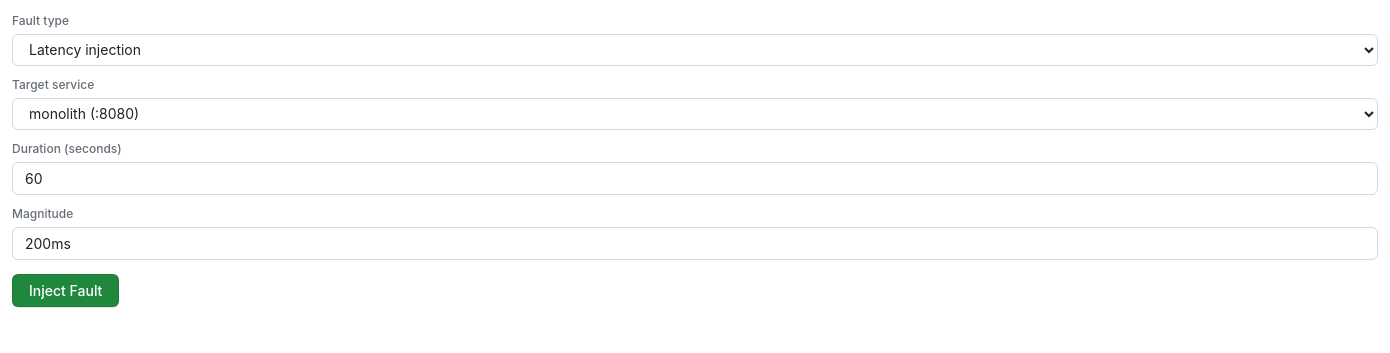
Scenario: theme and accessibility fidelity › associates fault form labels and validation errors with controls
Clear the field labelled "Magnitude" at (695, 243), box [12,226,1378,260]
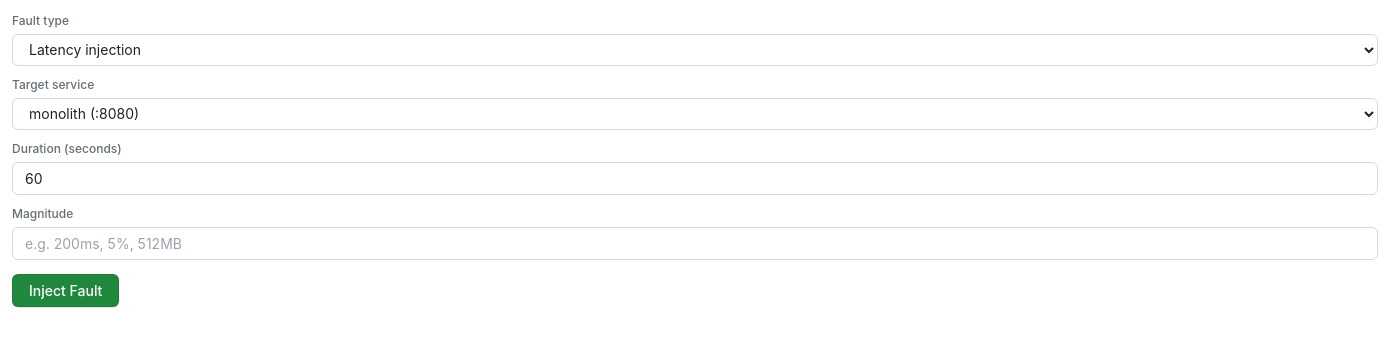
Click the button "Inject Fault" at (66, 290), box [12,274,119,306]
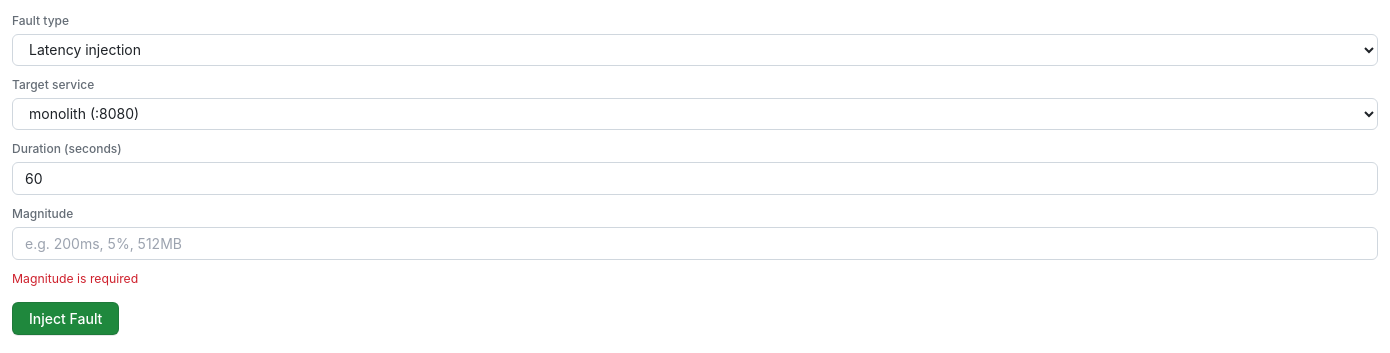
Now the text "Magnitude is required" is shown, box [12,271,138,286]
